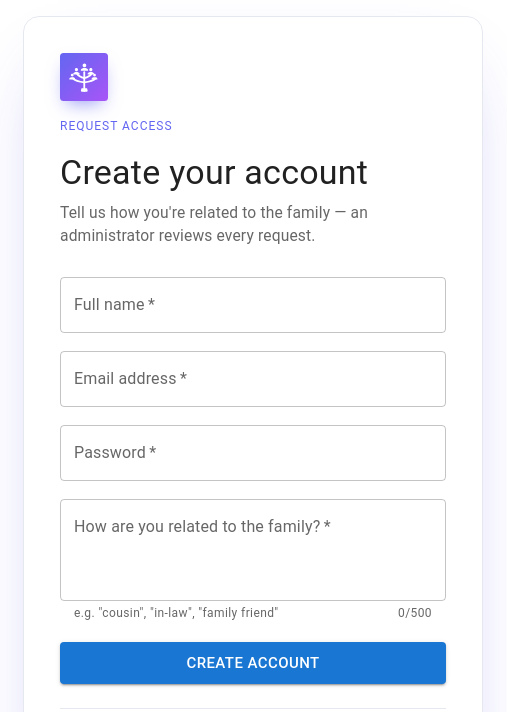
it: Register page (invitation-only) › shows an inline error on blur for an empty "Full name" field, and clears it live once a valid value is typed
Click the field labelled "Full name": (253, 305) [60, 277, 446, 333]
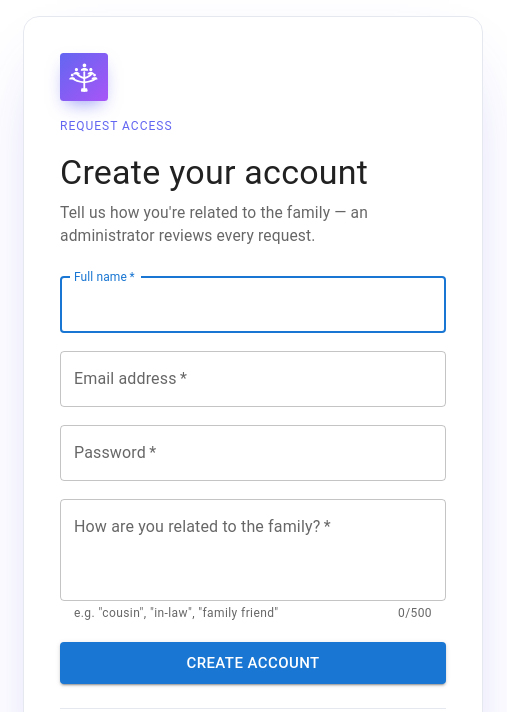
Press Tab
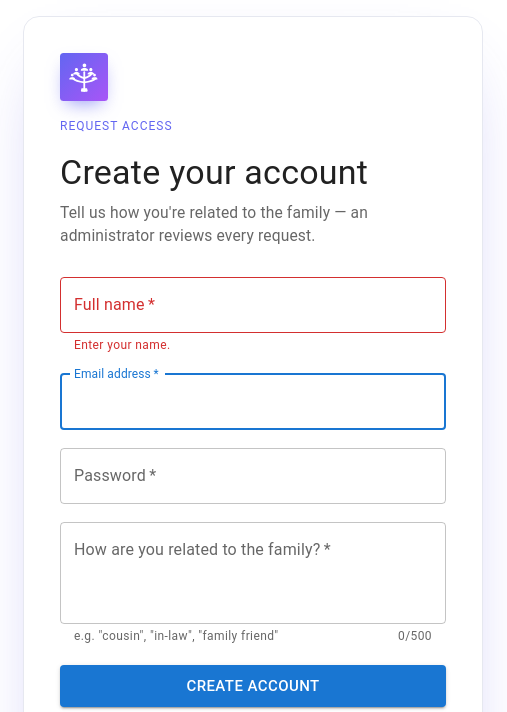
Now the text "Enter your name." is shown, box [74, 338, 170, 352]
In the field labelled "Full name": (253, 305) [60, 277, 446, 333], type "Ada"
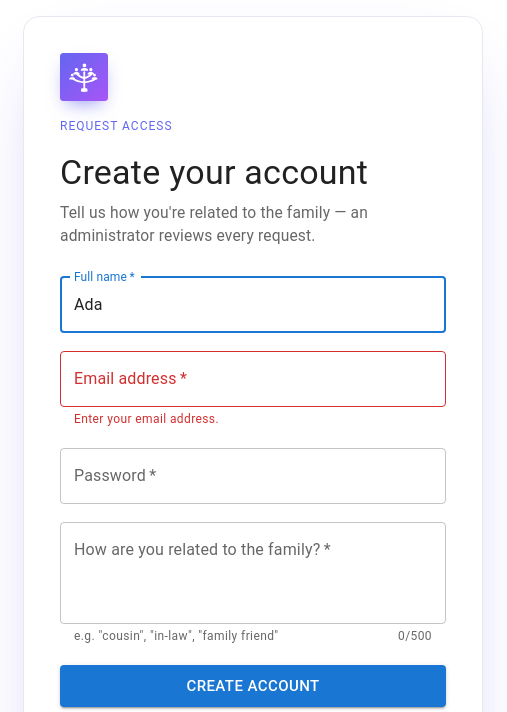
Now the text "Enter your name." is gone
